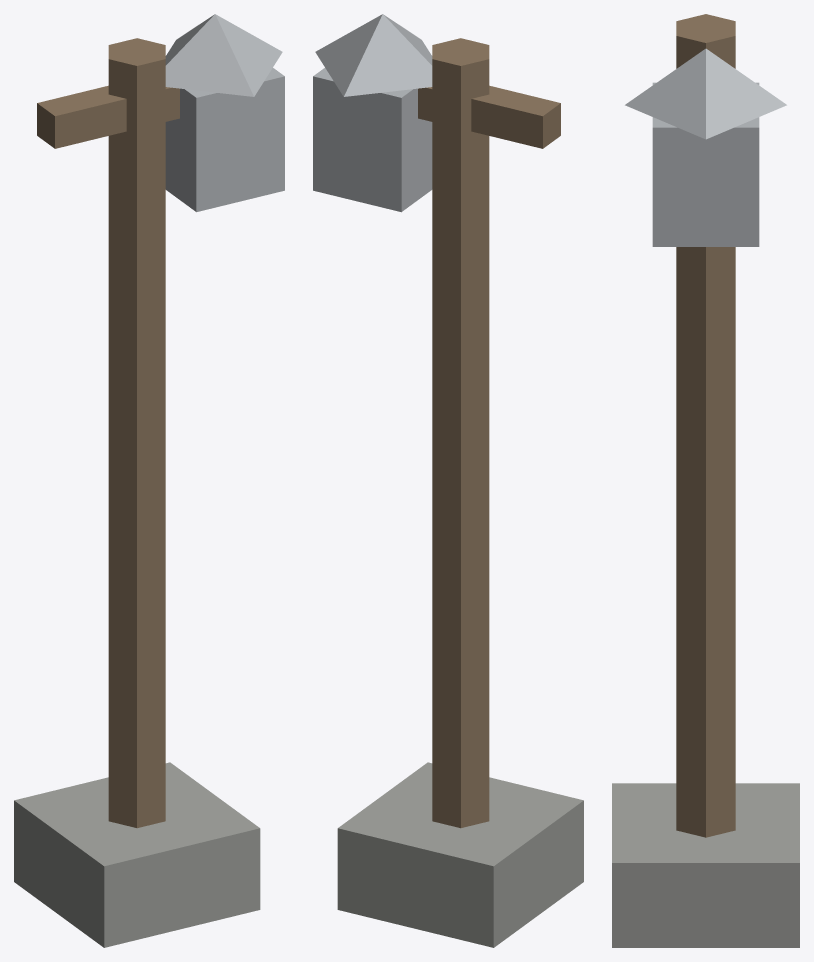
Rendered from lanternpost.fbx.
The picture shows the model from 3 angles, left to right: view 1: azimuth 30°, elevation 25°; view 2: azimuth 150°, elevation 25°; view 3: azimuth 270°, elevation 25°; orthographic projection. The views are drawn at different scales.
Parts seen in each view (by area): view 1: lanternpost; view 2: lanternpost; view 3: lanternpost.
Boxes of the visible parts, bbox=[...] form: lanternpost: bbox=[14, 14, 284, 947]; lanternpost: bbox=[313, 14, 583, 947]; lanternpost: bbox=[612, 14, 799, 947].
Size of the model in its own units: 91 by 317 by 60.
